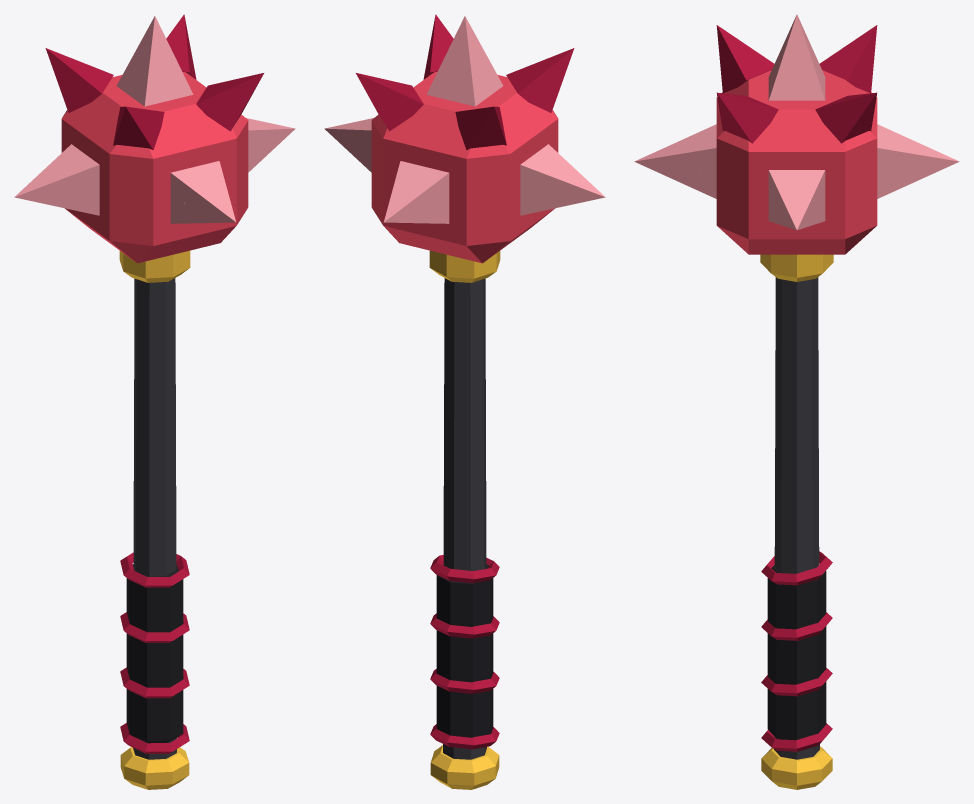
File: RubyMace.fbx
3 renders of one model, left to right at view 1: azimuth 30°, elevation 25°; view 2: azimuth 150°, elevation 25°; view 3: azimuth 270°, elevation 25°, orthographic.
Visible parts, largest first — view 1: RubyMace; view 2: RubyMace; view 3: RubyMace.
Boxes of the visible parts, bbox=[...] form: RubyMace: bbox=[14, 14, 295, 789]; RubyMace: bbox=[324, 14, 605, 789]; RubyMace: bbox=[634, 14, 959, 789].
Bounding box in the file's own units: 1.42 × 3.68 × 1.42.
Materials: 1 (1 with a texture image).
